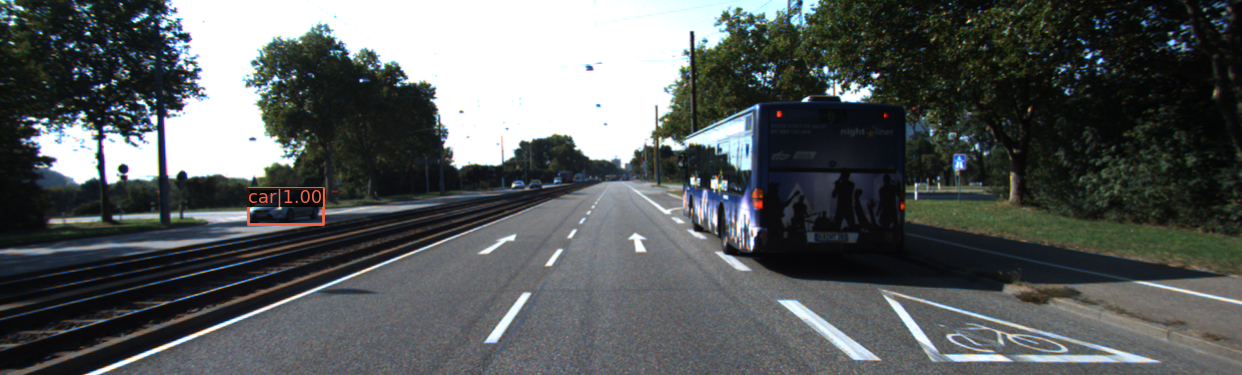car: (244, 190, 324, 226)
